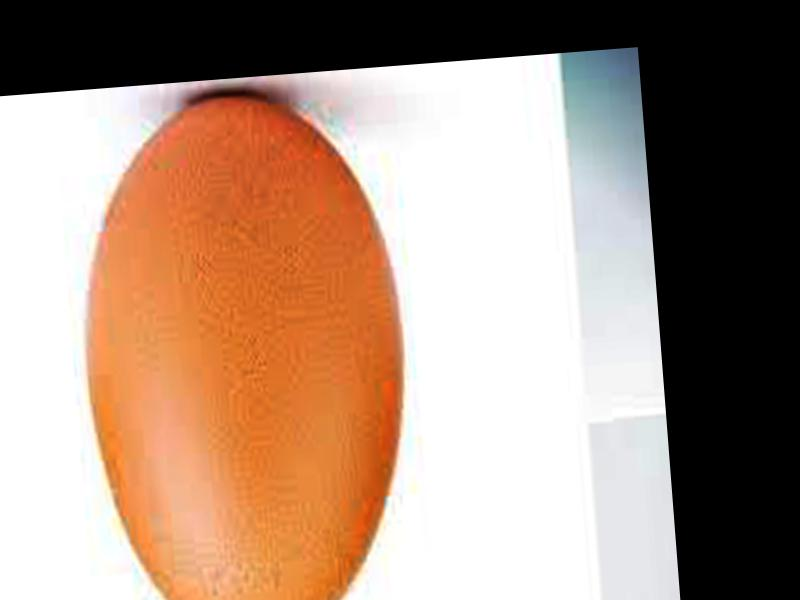Eggs: (67, 84, 423, 600)
